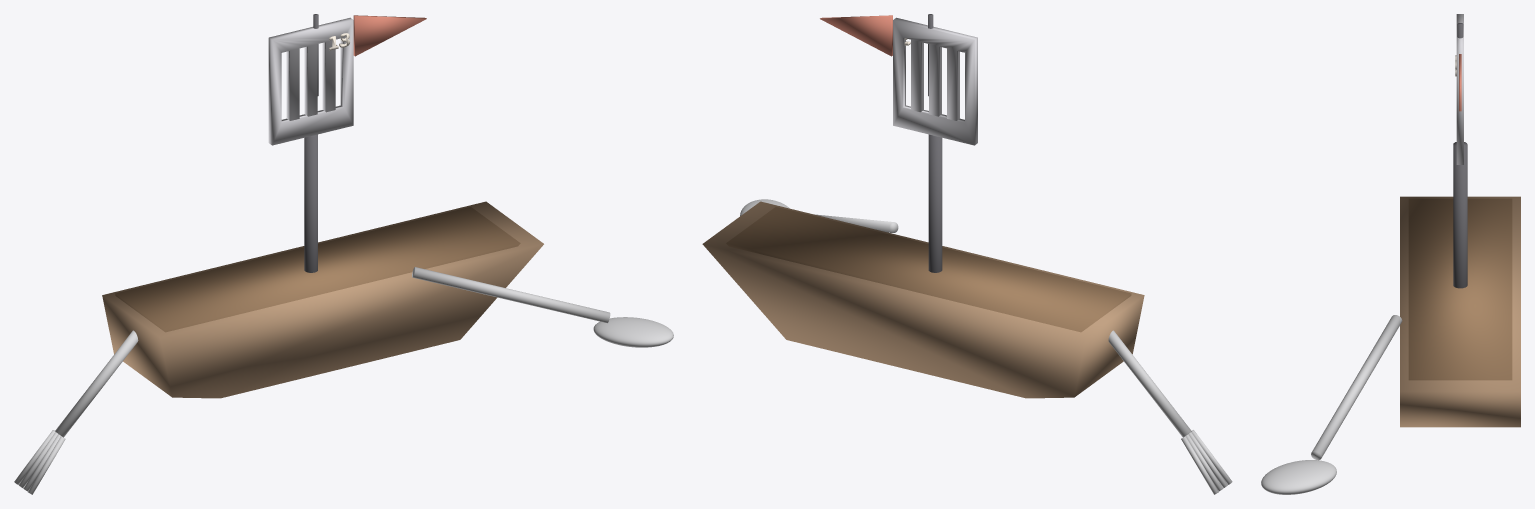
File: spatula-spoon-fork.glb
3 renders of one model, left to right at view 1: azimuth 30°, elevation 25°; view 2: azimuth 150°, elevation 25°; view 3: azimuth 270°, elevation 25°, orthographic. The views are drawn at different scales.
Visible parts, largest first — view 1: part0, part3, part7, part10; view 2: part0, part3, part7, part10; view 3: part0, part7, part3.
Boxes of the visible parts, x1,y1,x2,y2 form: part0: (102, 14, 543, 398); part3: (268, 17, 353, 145); part7: (55, 267, 673, 437); part10: (14, 430, 65, 494); part0: (702, 14, 1144, 398); part3: (893, 17, 977, 145); part7: (740, 199, 1191, 437); part10: (1181, 430, 1232, 494); part0: (1400, 23, 1520, 427); part7: (1261, 315, 1402, 494); part3: (1456, 14, 1463, 164).
Size of the model in its own units: 1 by 0.6835 by 0.3836.
4 materials, 4 textured.
